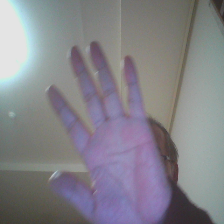hand: (46, 41, 172, 223)
